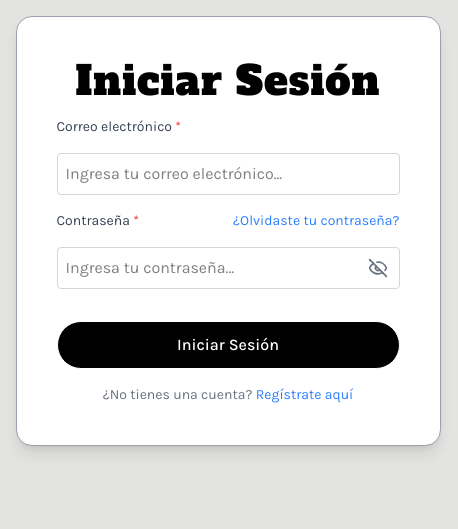
Scenario: LoginPage › redirige si supabase devuelve un error
This screenshot has width=458, height=529.
Type "correo-invalido@kdslf" into the field with test id "email-input" at [228, 174], box [56,153,400,195]
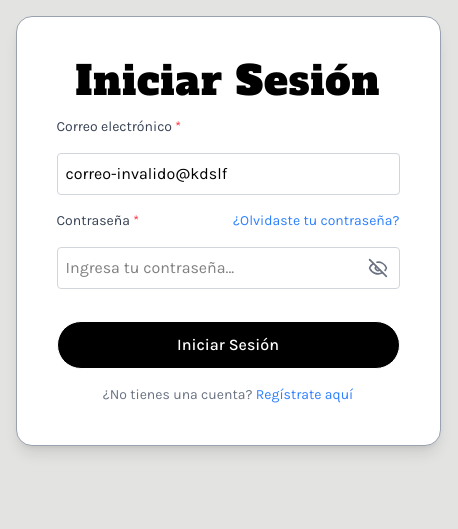
Type "Contraseña123" into the password field with test id "password-input" at [228, 268], box [56,247,400,289]
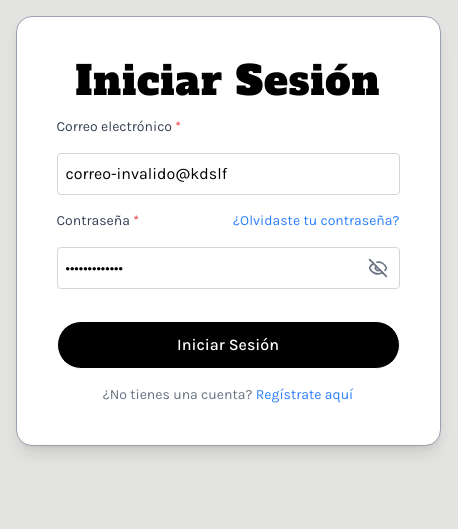
Click the button "Iniciar Sesión" at [228, 345], box [56,321,400,369]
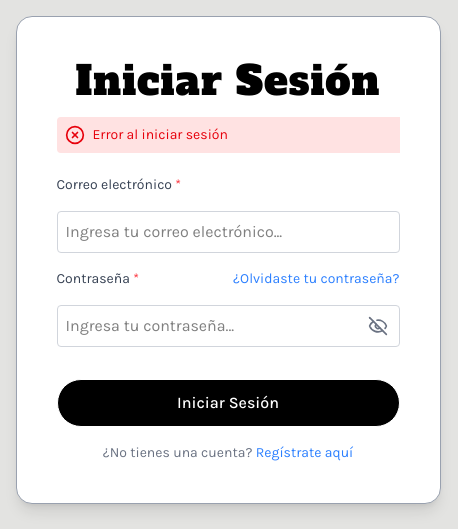
Now the text "Error al iniciar sesión" is shown, box [92,125,228,145]
